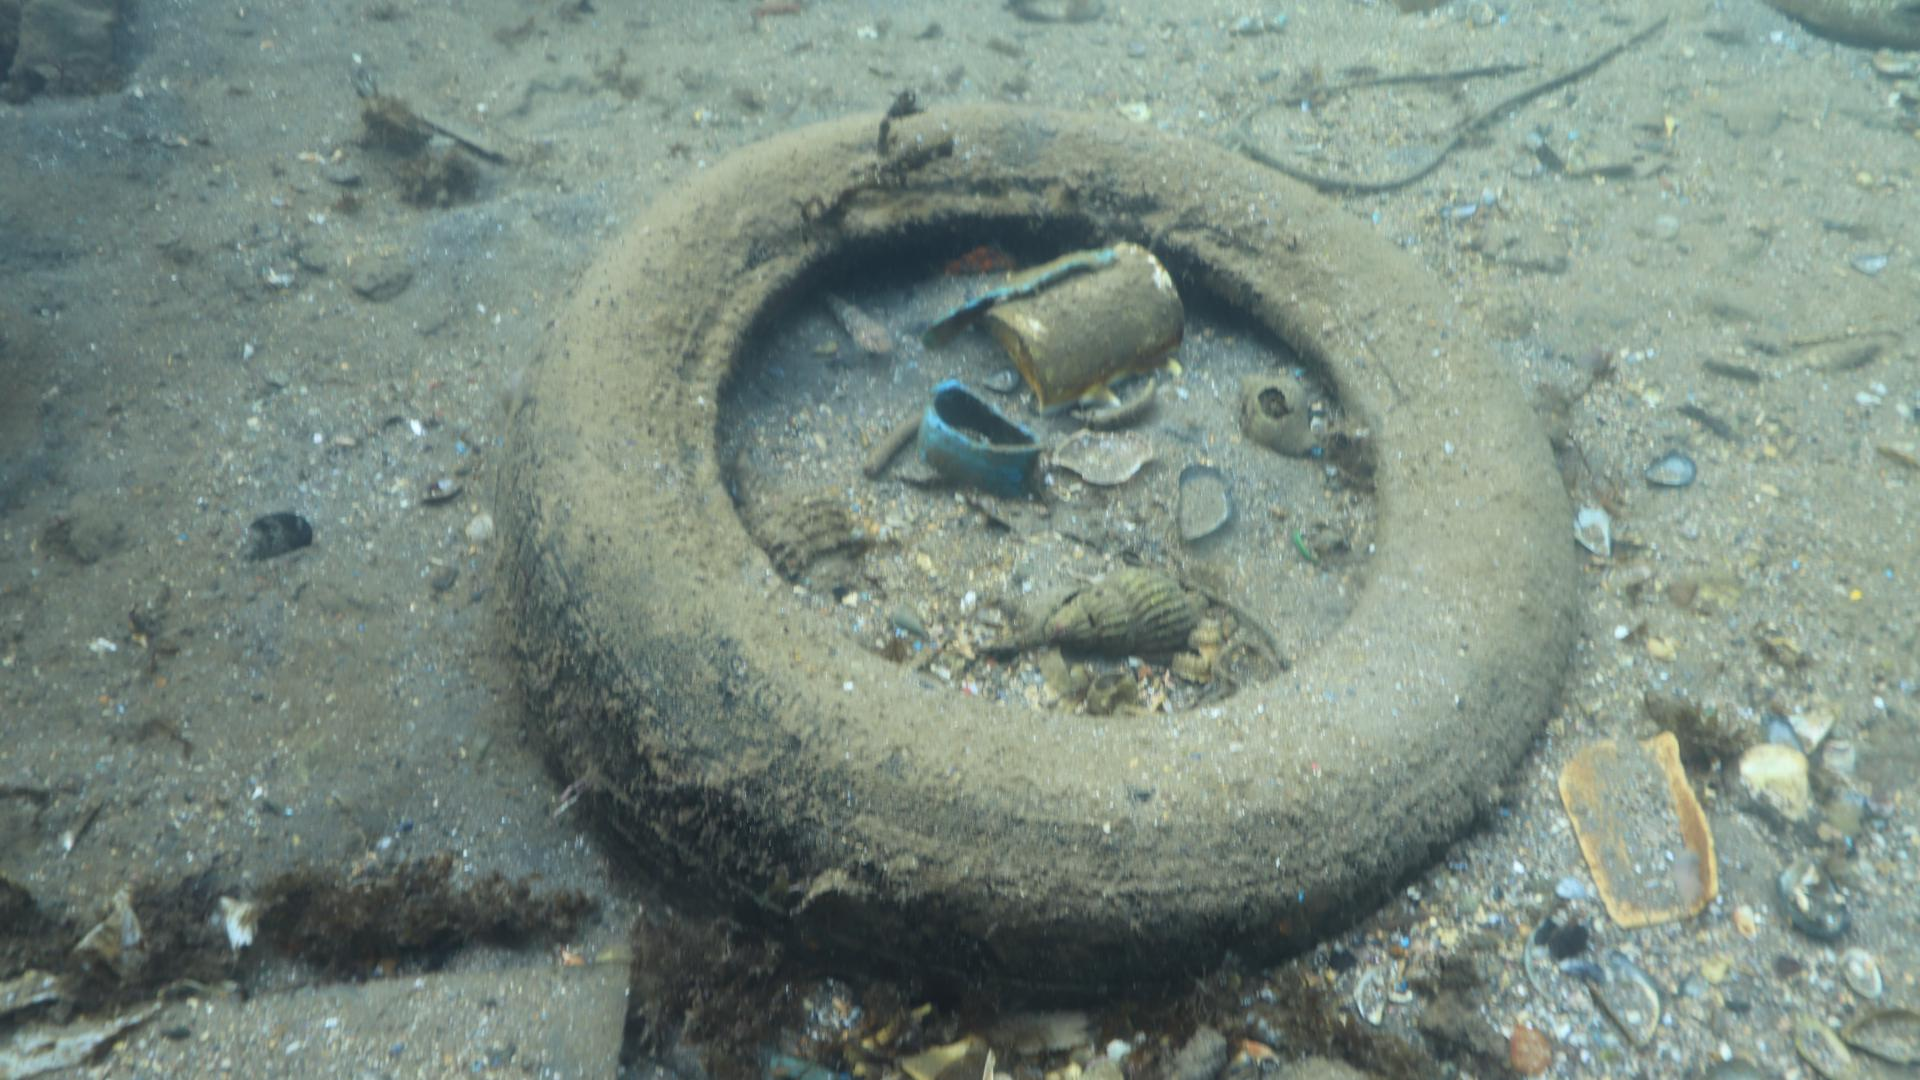tire: (495, 98, 1578, 1007)
